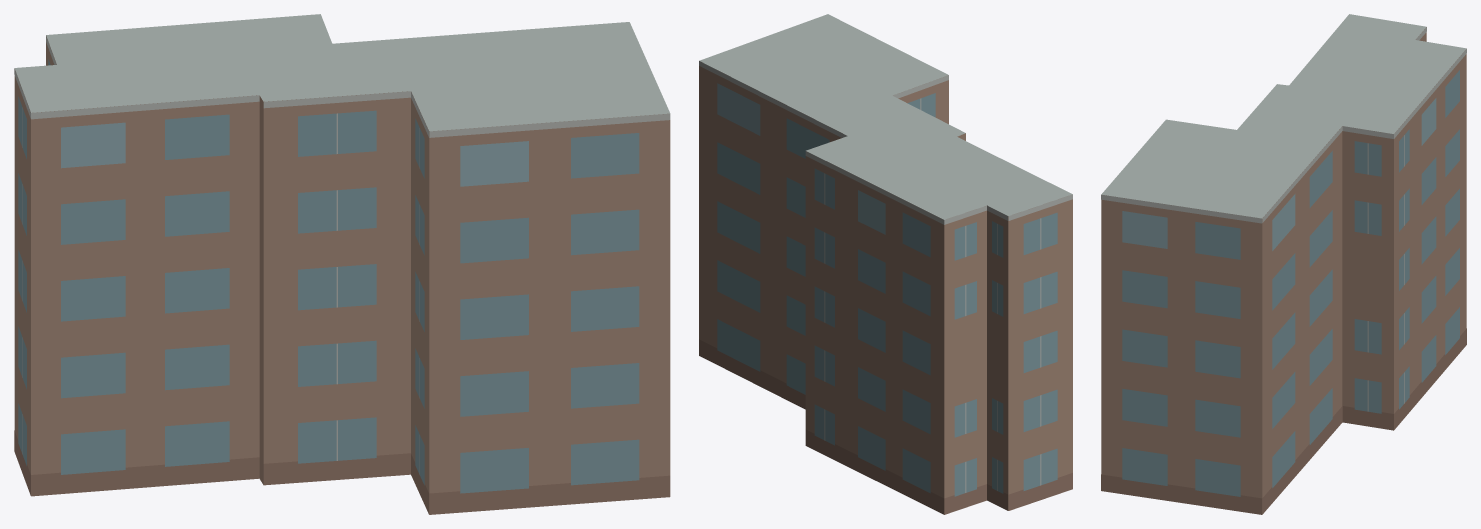
Rendered from survey-upis-32622822.glb.
The picture shows the model from 3 angles, left to right: view 1: azimuth 30°, elevation 25°; view 2: azimuth 150°, elevation 25°; view 3: azimuth 270°, elevation 25°; orthographic projection. The views are drawn at different scales.
Visible parts, largest first — view 1: survey-upis-32622822.tmp; view 2: survey-upis-32622822.tmp; view 3: survey-upis-32622822.tmp.
Part boxes in pixels (box(x1,y1,x2,y2)): survey-upis-32622822.tmp: box(14, 14, 670, 514); survey-upis-32622822.tmp: box(699, 14, 1072, 514); survey-upis-32622822.tmp: box(1101, 14, 1466, 514).
Bounding box in the file's own units: 21.32 × 14.4 × 16.11.
